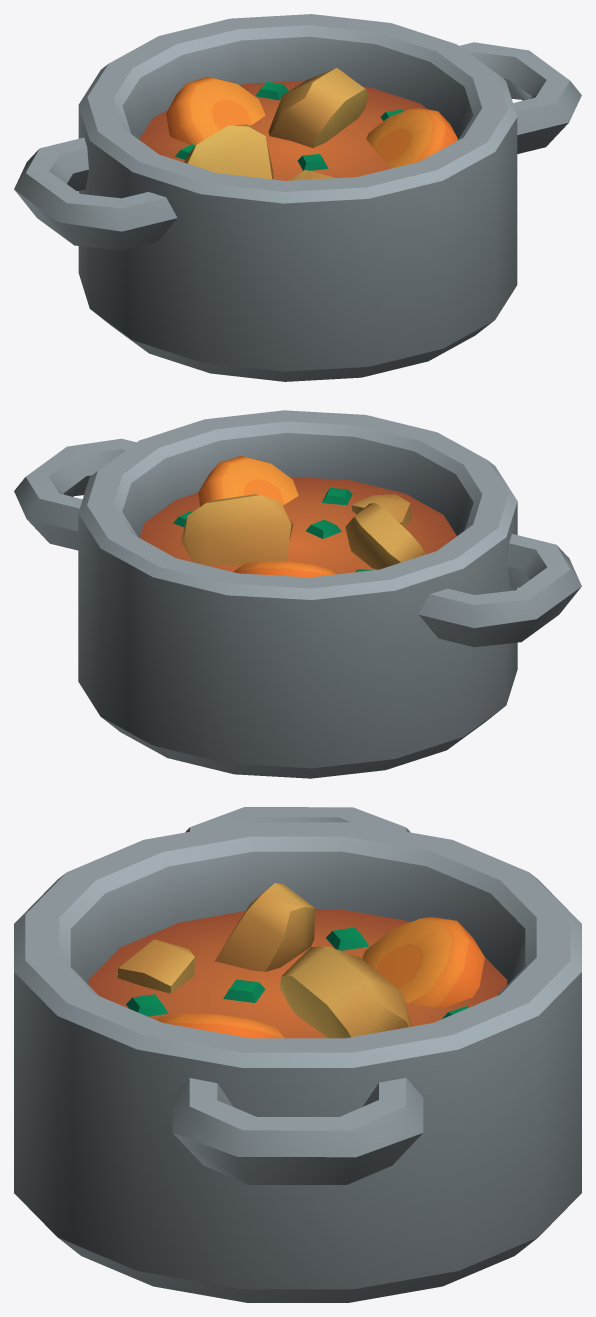
Rendered from pot_A_stew.glb.
3 renders of one model, top to bottom at view 1: azimuth 30°, elevation 25°; view 2: azimuth 150°, elevation 25°; view 3: azimuth 270°, elevation 25°, orthographic. The views are drawn at different scales.
Visible parts, largest first — view 1: pot_A_stew_Cylinder.231; view 2: pot_A_stew_Cylinder.231; view 3: pot_A_stew_Cylinder.231.
Boxes of the visible parts, x1=… form: pot_A_stew_Cylinder.231: x1=14, y1=14, x2=581, y2=381; pot_A_stew_Cylinder.231: x1=14, y1=410, x2=581, y2=778; pot_A_stew_Cylinder.231: x1=14, y1=807, x2=581, y2=1302.
Size of the model in its own units: 1.4 by 0.5159 by 1.
1 material, 1 textured.
